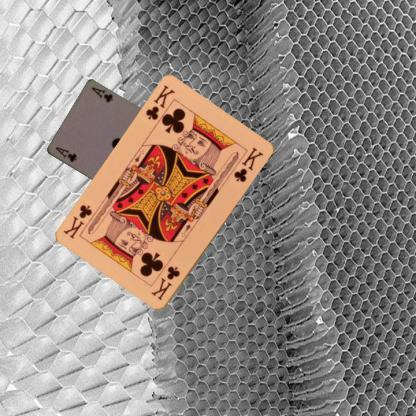Ac: (52, 144, 78, 163)
Kc: (143, 83, 176, 122), (148, 264, 181, 302)
